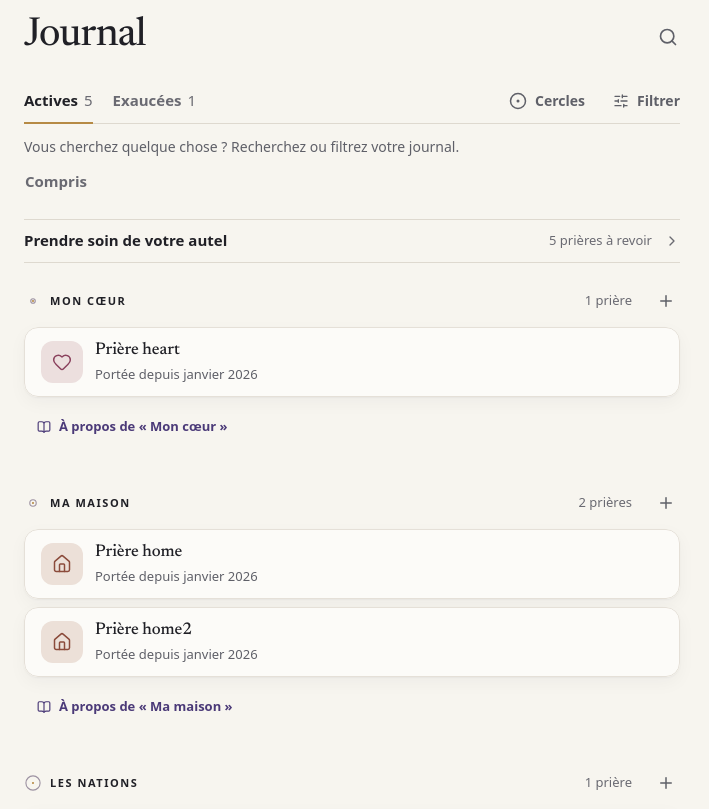
Test: PrayersTab — By circle › lets a selected heading show all circles again
The image size is (709, 809).
Click the button "Ma maison": x=77, y=503 x1=16 y1=481 x2=139 y2=525
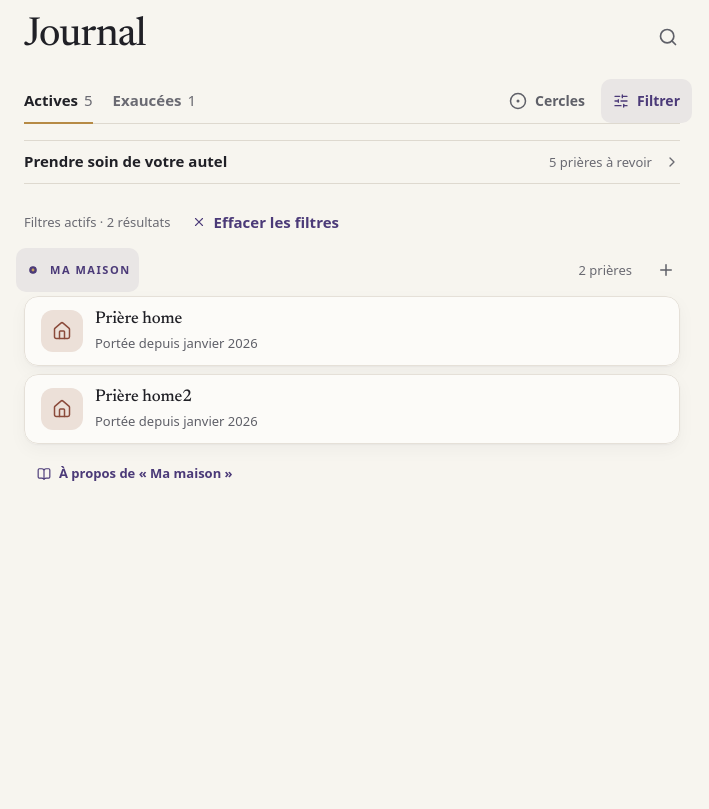
Click the button "Ma maison": x=77, y=270 x1=16 y1=248 x2=139 y2=292
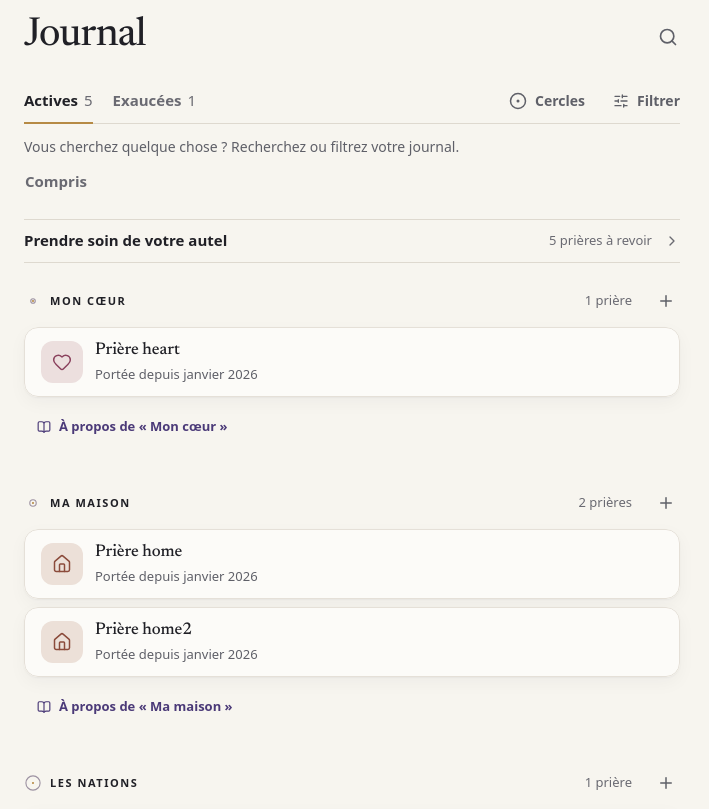
expect the text "Prière home" is shown: met, box x1=95 y1=544 x2=182 y2=561
expect the text "Prière heart" is shown: met, box x1=95 y1=342 x2=180 y2=359
expect the text "Filtres actifs" is gone: met
